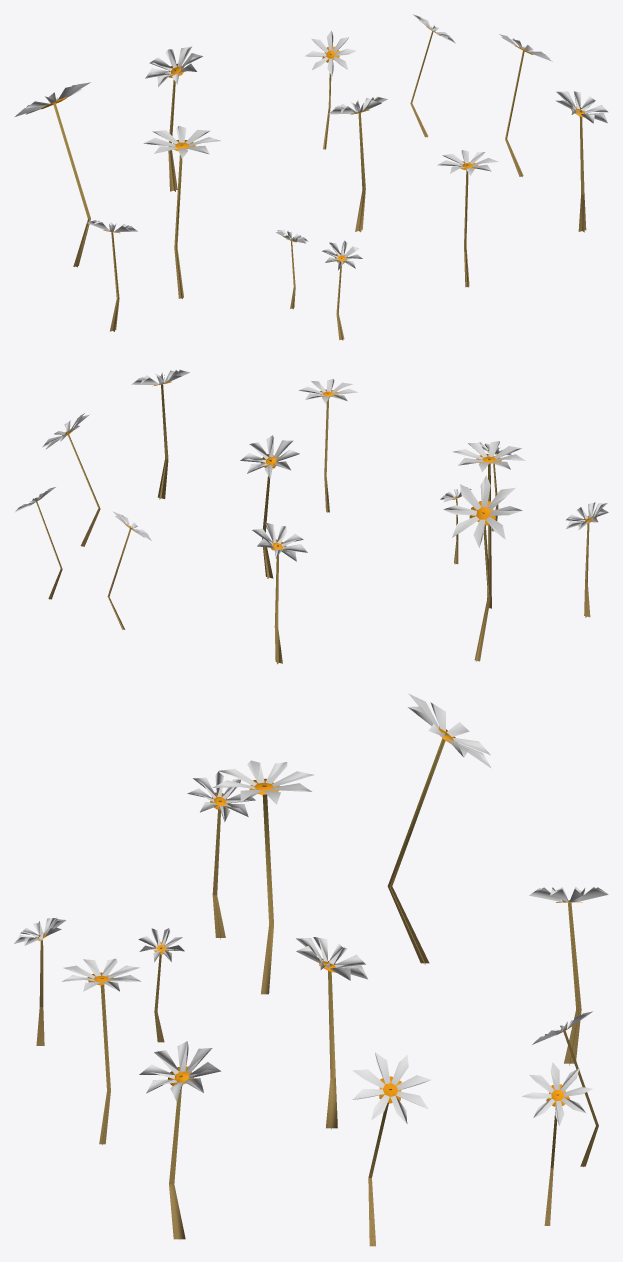
File: flower_daisy_low.glb
3 views of the same model, one above another, from view 1: azimuth 30°, elevation 25°; view 2: azimuth 150°, elevation 25°; view 3: azimuth 270°, elevation 25° (orthographic). The views are drawn at different scales.
Parts seen in each view (by area): view 1: Flower 4_4_A; view 2: Flower 4_4_A; view 3: Flower 4_4_A.
Boxes of the visible parts, x1,y1,x2,y2 form: Flower 4_4_A: [15, 14, 608, 340]; Flower 4_4_A: [14, 369, 608, 664]; Flower 4_4_A: [14, 693, 608, 1246].
Size of the model in its own units: 0.7351 by 0.2547 by 0.5391.
Materials: 1 (1 with a texture image).
